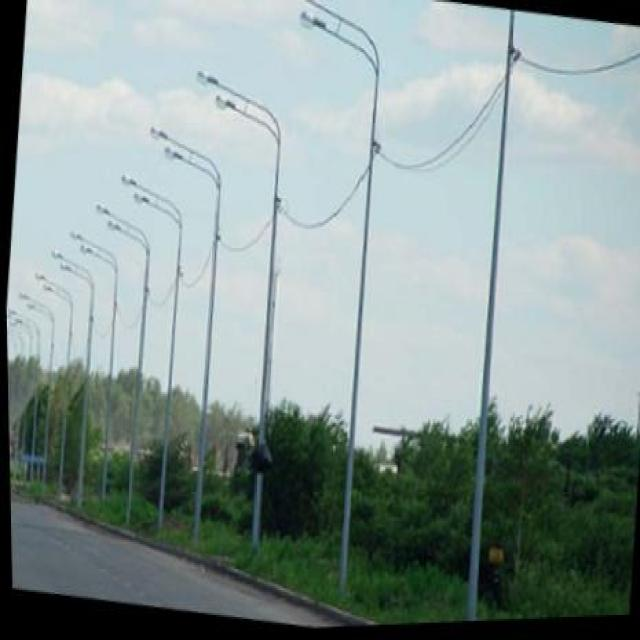pole: (454, 222, 504, 610), (330, 248, 370, 595)
